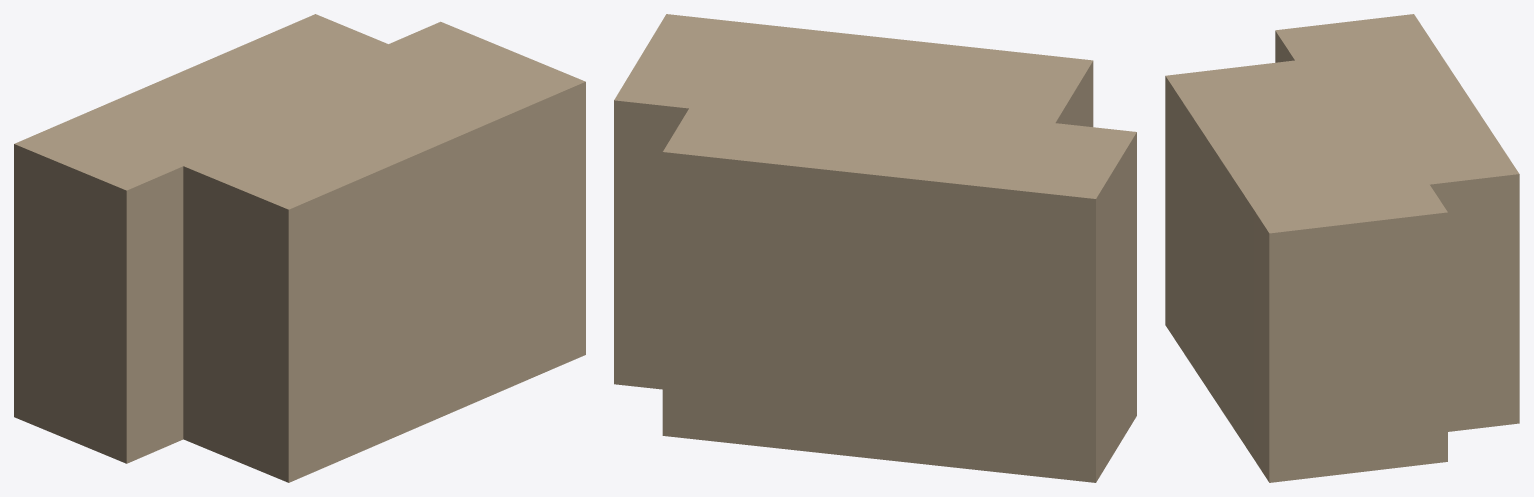
File: bld_105794292.dae
The picture shows the model from 3 angles, left to right: view 1: azimuth 30°, elevation 25°; view 2: azimuth 150°, elevation 25°; view 3: azimuth 270°, elevation 25°; orthographic projection. The views are drawn at different scales.
Visible parts, largest first — view 1: bld_105794292; view 2: bld_105794292; view 3: bld_105794292.
Boxes of the visible parts, box(x1,y1,x2,y2) form: bld_105794292: box(14, 14, 585, 482); bld_105794292: box(614, 14, 1136, 482); bld_105794292: box(1165, 14, 1519, 482).
Bounding box in the file's own units: 15.09 × 10.29 × 8.
